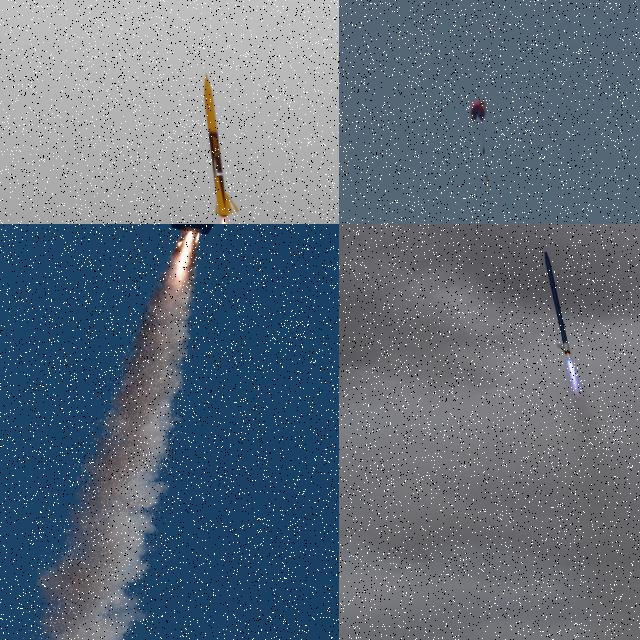Rocket: (202, 73, 240, 217), (544, 248, 580, 355)
